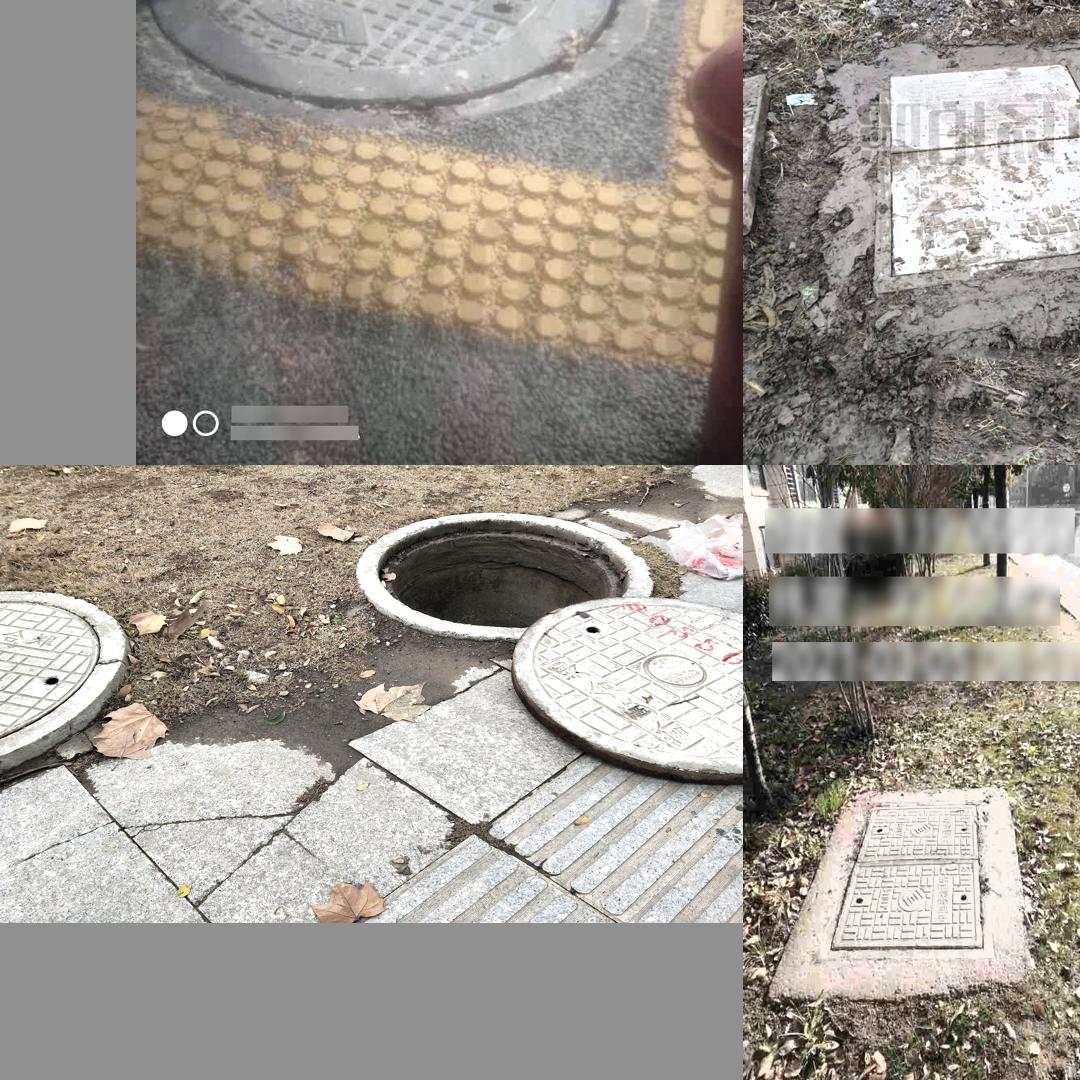good: (872, 56, 1080, 293), (141, 0, 619, 102), (819, 800, 995, 959), (0, 590, 126, 782)
uncovered: (358, 511, 742, 784)
